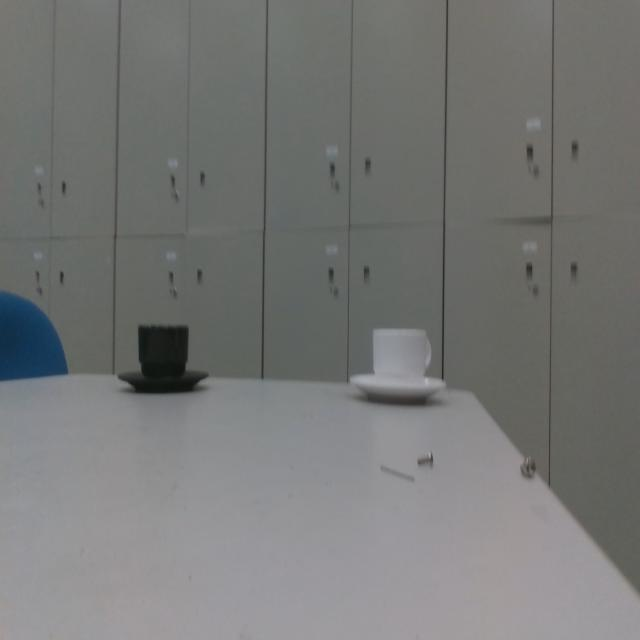black: (117, 324, 211, 396)
white: (348, 328, 450, 408)
